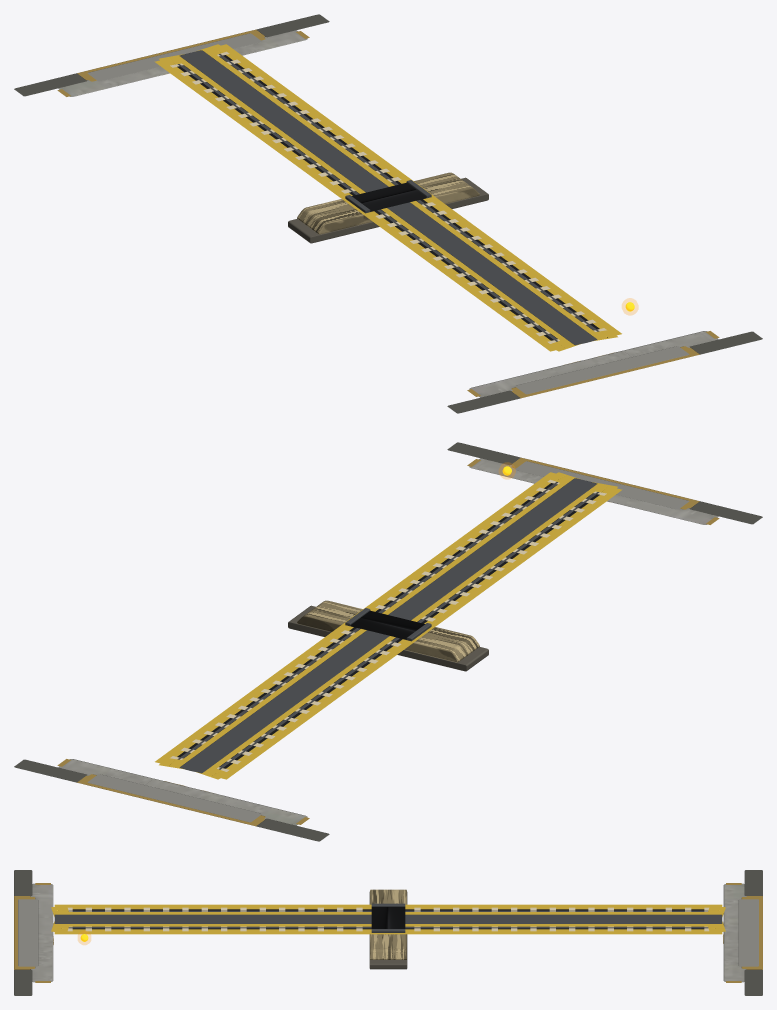
Rendered from GAGATE_B.glb.
3 renders of one model, top to bottom at view 1: azimuth 30°, elevation 25°; view 2: azimuth 150°, elevation 25°; view 3: azimuth 270°, elevation 25°, orthographic. The views are drawn at different scales.
Parts seen in each view (by area): view 1: GatePanel, ArmZP, ArmZN, Sill, ArmZPBlock, ArmZNBlock, Slot, Footing; view 2: GatePanel, ArmZN, ArmZP, Sill, ArmZNBlock, ArmZPBlock, Slot, Footing; view 3: GatePanel, ArmZN, ArmZP, ArmZNBlock, ArmZPBlock, Sill, Slot, Footing.
Boxes of the visible parts, left/top/right/bottom form: GatePanel: left=154, top=44, right=621, bottom=351; ArmZP: left=447, top=331, right=762, bottom=413; ArmZN: left=14, top=14, right=329, bottom=96; Sill: left=297, top=172, right=479, bottom=234; ArmZPBlock: left=469, top=331, right=718, bottom=397; ArmZNBlock: left=58, top=30, right=307, bottom=96; Slot: left=345, top=180, right=431, bottom=213; Footing: left=288, top=177, right=488, bottom=243; GatePanel: left=155, top=472, right=622, bottom=779; ArmZN: left=14, top=759, right=329, bottom=841; ArmZP: left=447, top=442, right=762, bottom=524; Sill: left=297, top=600, right=479, bottom=662; ArmZNBlock: left=58, top=759, right=307, bottom=825; ArmZPBlock: left=469, top=458, right=718, bottom=524; Slot: left=345, top=608, right=431, bottom=641; Footing: left=288, top=605, right=488, bottom=671; GatePanel: left=51, top=904, right=725, bottom=934; ArmZN: left=726, top=870, right=762, bottom=995; ArmZP: left=14, top=870, right=50, bottom=995; ArmZNBlock: left=723, top=883, right=746, bottom=982; ArmZPBlock: left=30, top=883, right=53, bottom=982; Sill: left=370, top=889, right=406, bottom=959; Slot: left=371, top=903, right=405, bottom=932; Footing: left=369, top=892, right=407, bottom=969.
Size of the model in its own units: 1.2 by 0.12 by 3.01.
17 materials, 3 textured.
